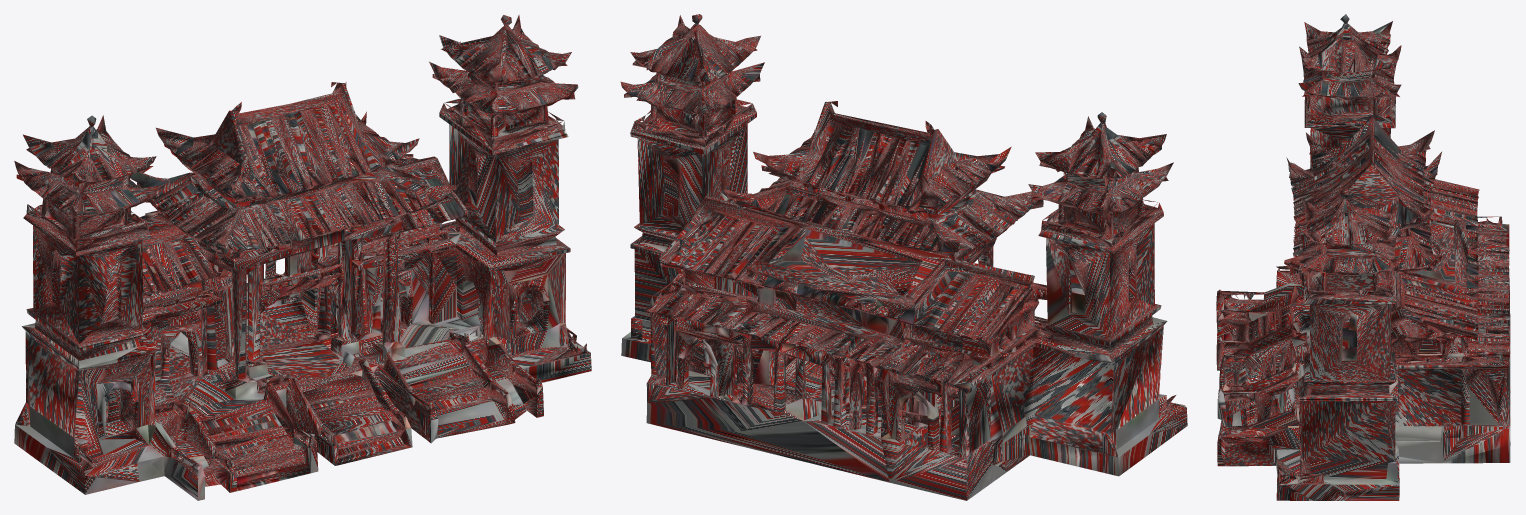
Rendered from sect_gate_grand.lod.glb.
The picture shows the model from 3 angles, left to right: view 1: azimuth 30°, elevation 25°; view 2: azimuth 150°, elevation 25°; view 3: azimuth 270°, elevation 25°; orthographic projection. The views are drawn at different scales.
Bounding box in the file's own units: 1.89 × 1.2 × 1.1.
Materials: 1 (1 with a texture image).
